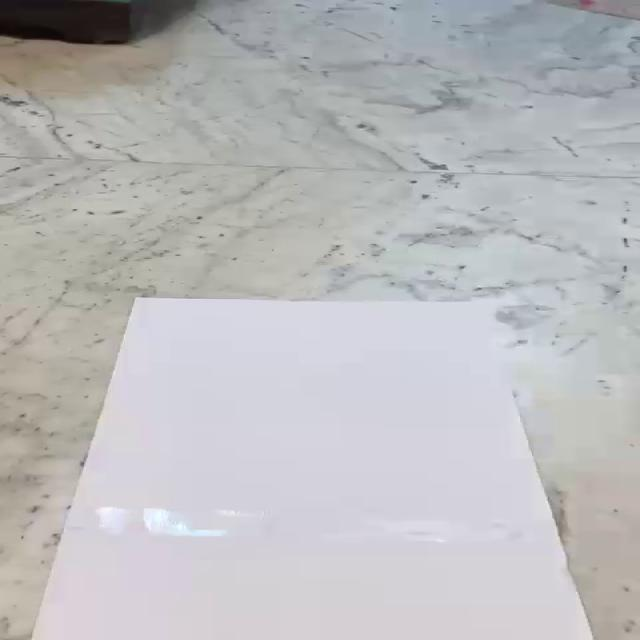road: (29, 297, 595, 640)
